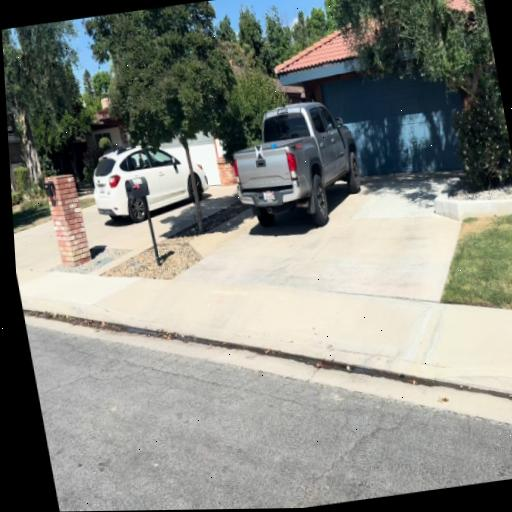target1: (255, 145, 264, 159)
